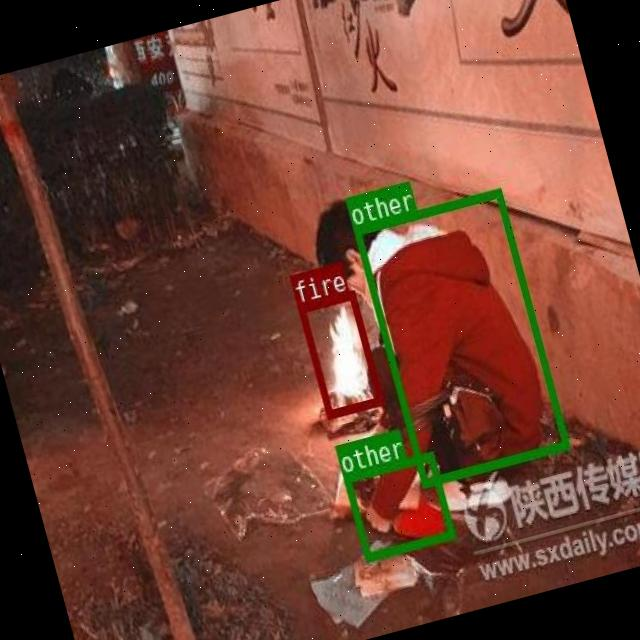fire: (295, 289, 383, 417)
